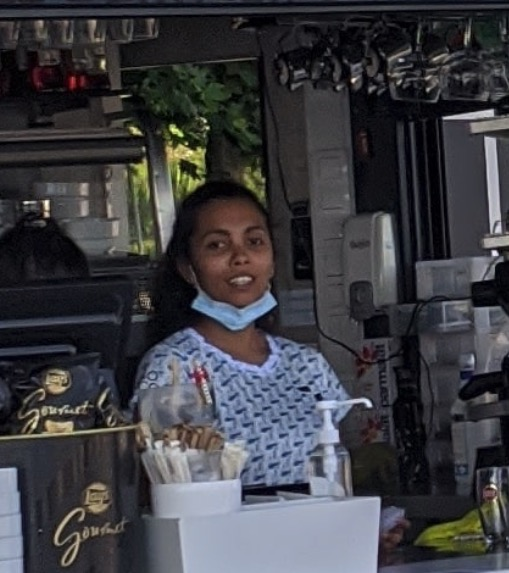mask_weared_incorrect: (197, 222, 275, 326)
